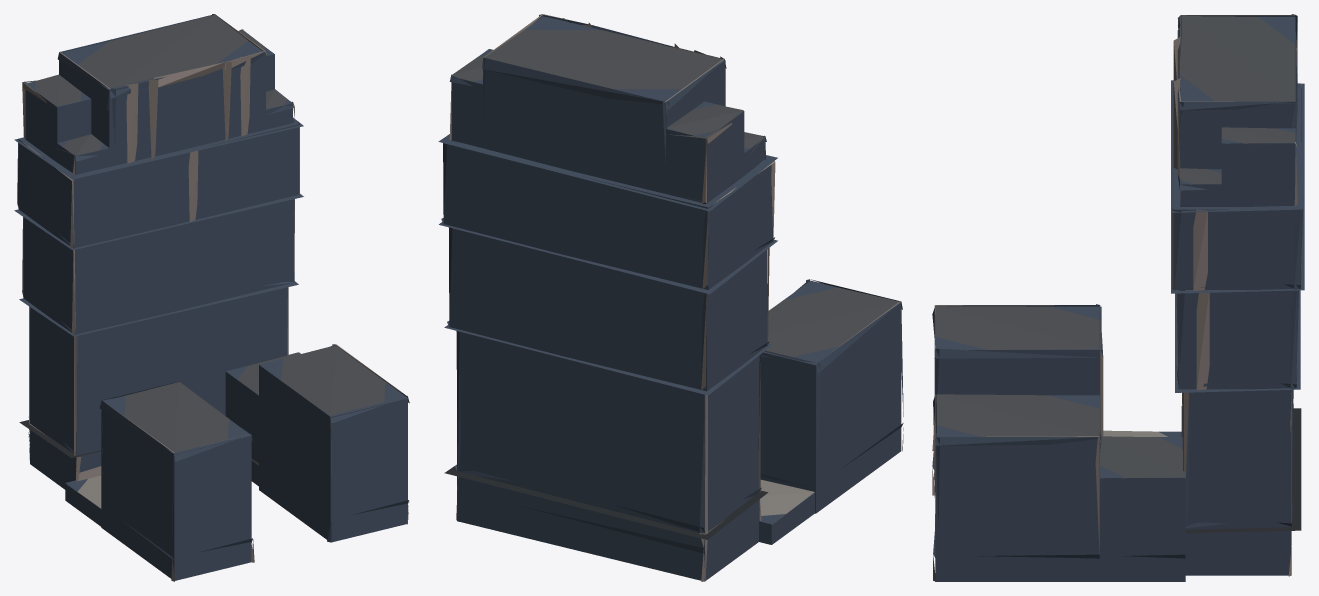
File: xavier-zuidas.lod2.glb
3 renders of one model, left to right at view 1: azimuth 30°, elevation 25°; view 2: azimuth 150°, elevation 25°; view 3: azimuth 270°, elevation 25°, orthographic. The views are drawn at different scales.
Visible parts, largest first — view 1: lod2; view 2: lod2; view 3: lod2.
Boxes of the visible parts, x1,y1,x2,y2 form: lod2: [14, 14, 409, 581]; lod2: [438, 14, 903, 581]; lod2: [932, 14, 1304, 581].
Bounding box in the file's own units: 45.86 × 74.3 × 54.45.
